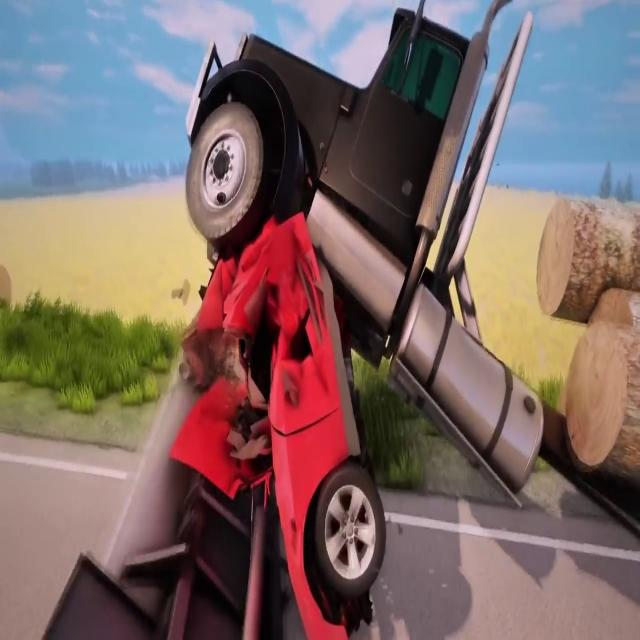accident: (160, 0, 600, 640)
